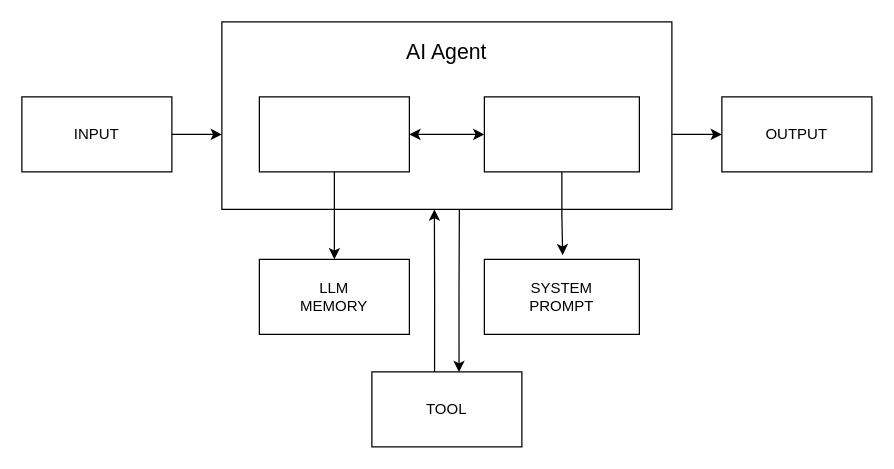
Some shapes in this 894 by 469 pixel diagram are drawn without their labels. Here are the shapes that lost their labels. From the top down, the centre of each, then its label:
At (333,134): "BRAIN".
At (561,134): "INSTRUCTIONS".
